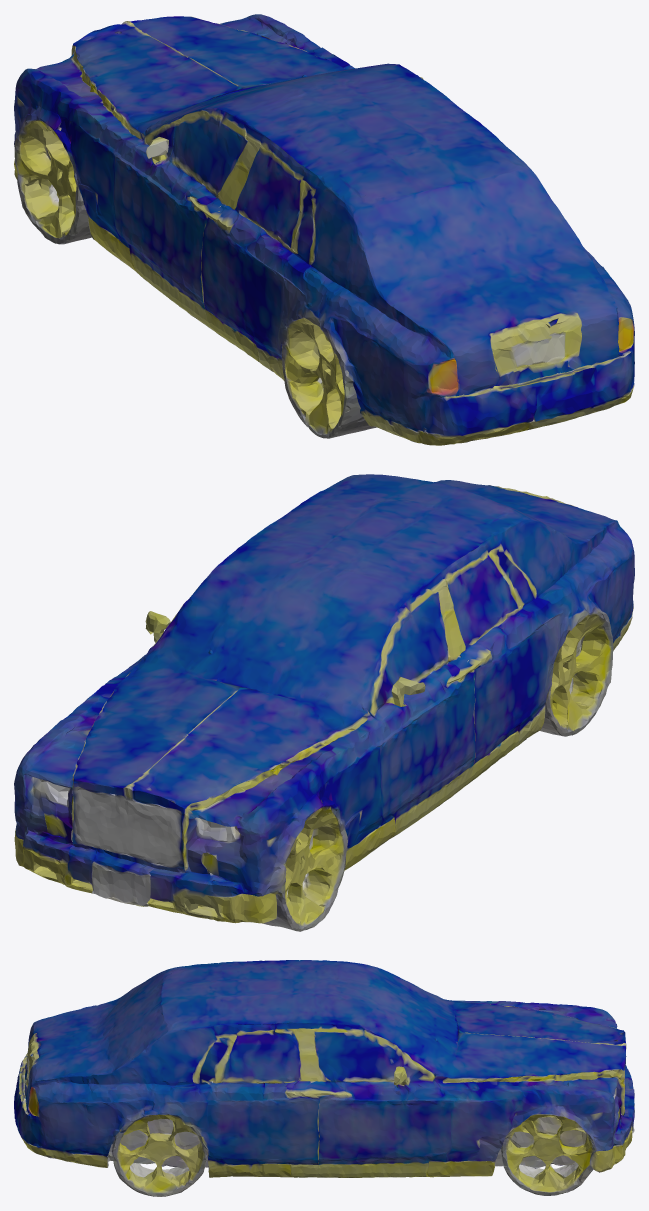
3 renders of one model, top to bottom at view 1: azimuth 30°, elevation 25°; view 2: azimuth 150°, elevation 25°; view 3: azimuth 270°, elevation 25°, orthographic. The views are drawn at different scales.
Visible parts, largest first — view 1: defaultobject; view 2: defaultobject; view 3: defaultobject.
Part boxes in pixels (x1=…): defaultobject: x1=14, y1=14, x2=634, y2=445; defaultobject: x1=14, y1=474, x2=634, y2=931; defaultobject: x1=14, y1=960, x2=634, y2=1196.
Size of the model in its own units: 0.3571 by 0.2776 by 0.9499.
